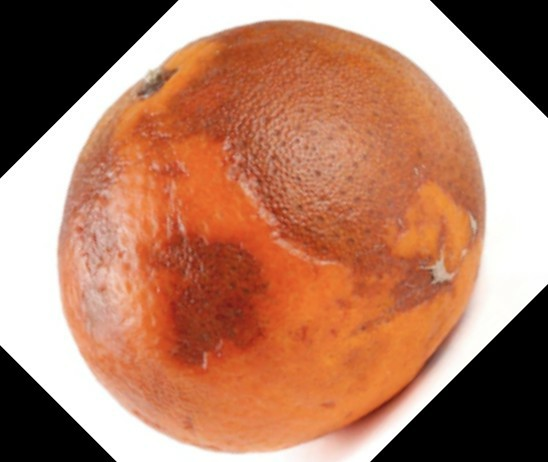rotten_orange: (61, 20, 482, 454)
